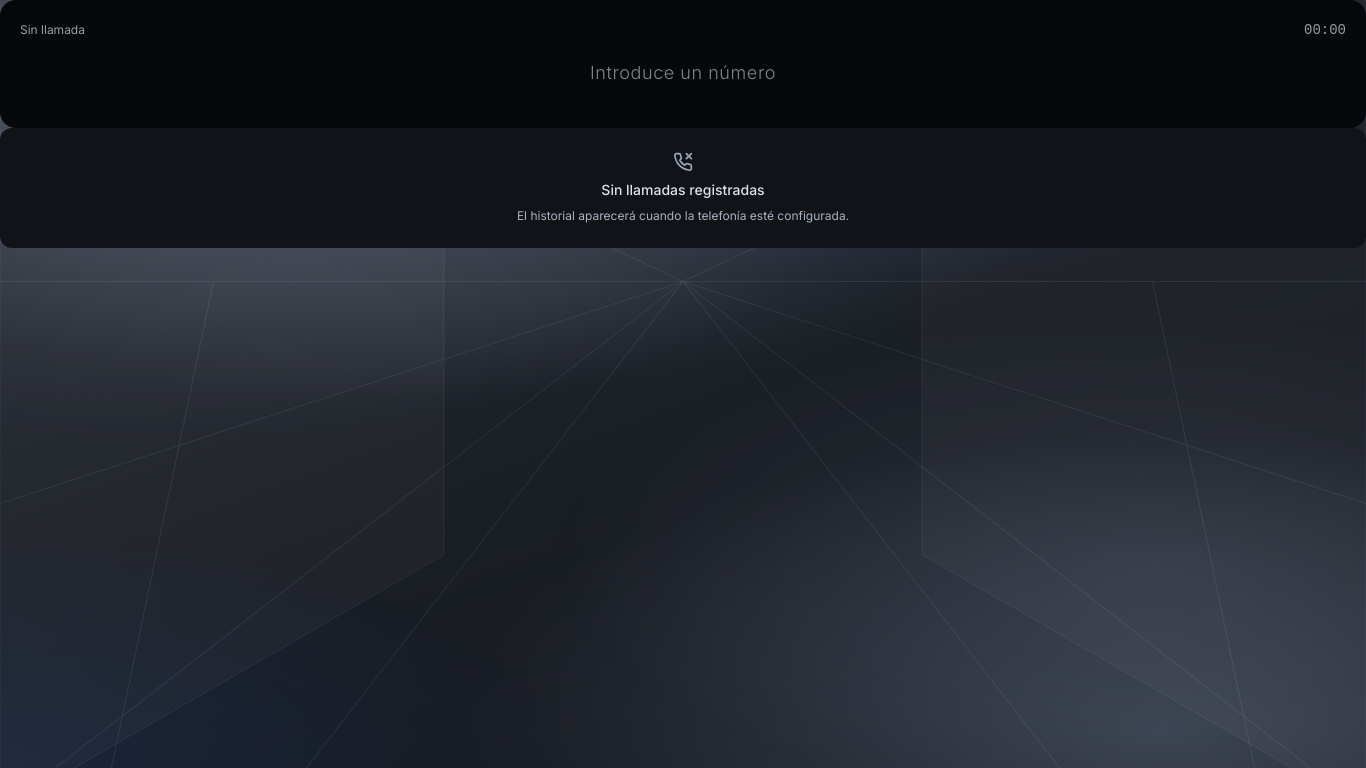
Test case: the screen drops what cannot be dialed, also from a paste
Type "+506 7130-1928 llamar" into the field named "Número marcado" at coordinates (683, 70), box [20, 52, 1346, 88]
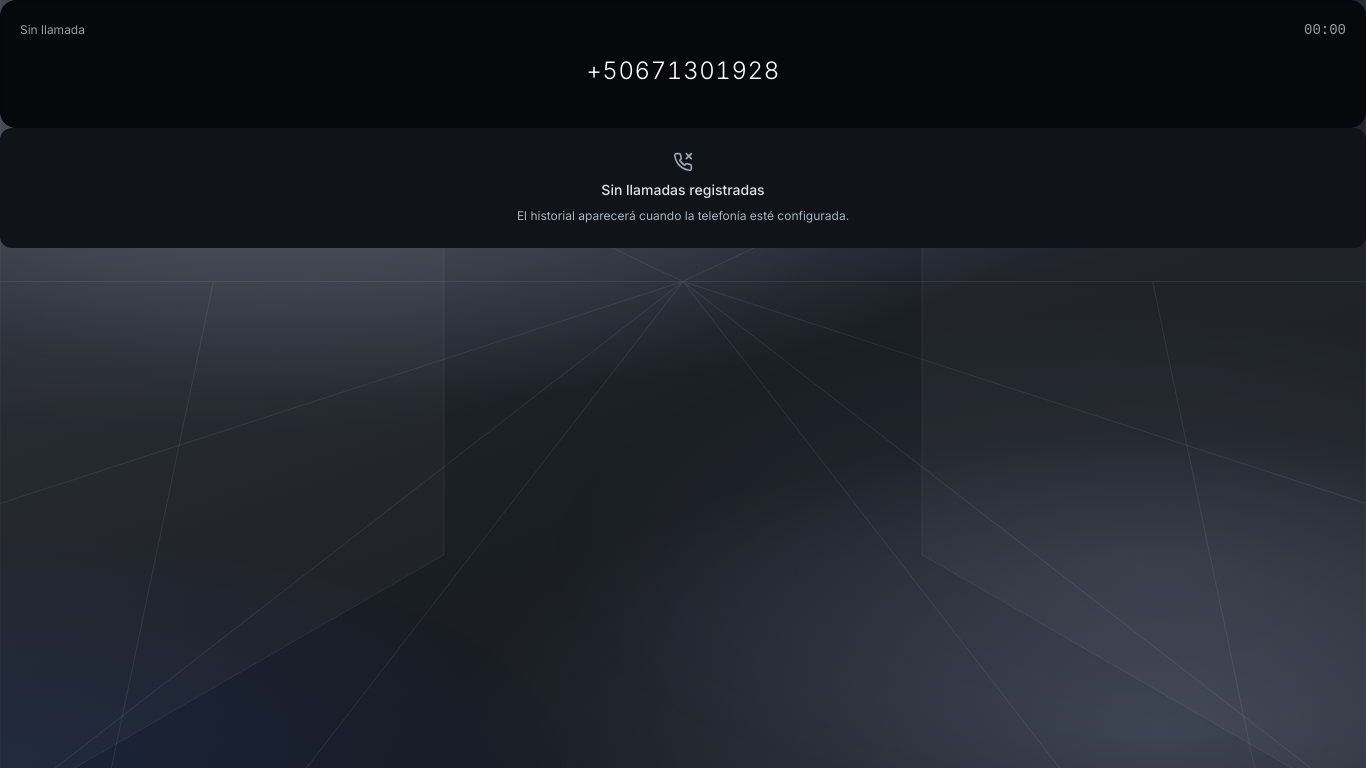
expect the field named "Número marcado" holds "+50671301928": met, box [20, 52, 1346, 88]
